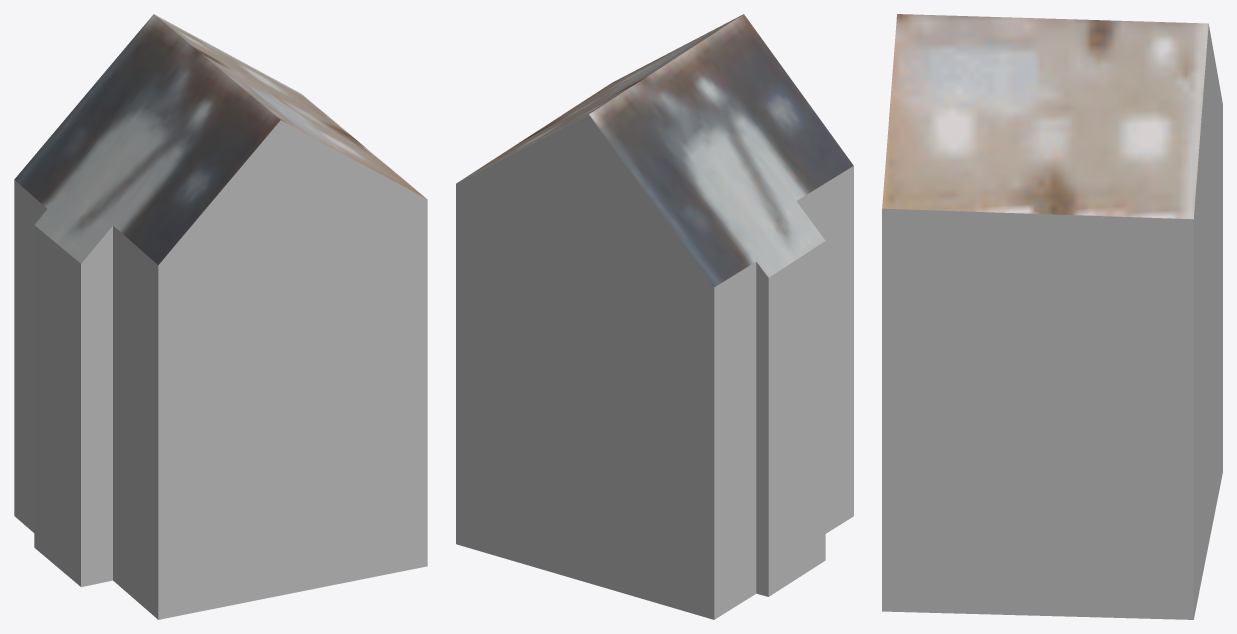
Rendered from DEBW_0010007Tx7u.gltf.
3 views of the same model, side by side, from view 1: azimuth 30°, elevation 25°; view 2: azimuth 150°, elevation 25°; view 3: azimuth 270°, elevation 25° (orthographic). The views are drawn at different scales.
Visible parts, largest first — view 1: Z_UP; view 2: Z_UP; view 3: Z_UP.
Boxes of the visible parts, left/top/right/bottom form: Z_UP: left=14, top=14, right=427, bottom=619; Z_UP: left=456, top=14, right=853, bottom=619; Z_UP: left=882, top=14, right=1222, bottom=619.
Bounding box in the file's own units: 12.07 × 18.46 × 10.91.
2 materials, 1 textured.
